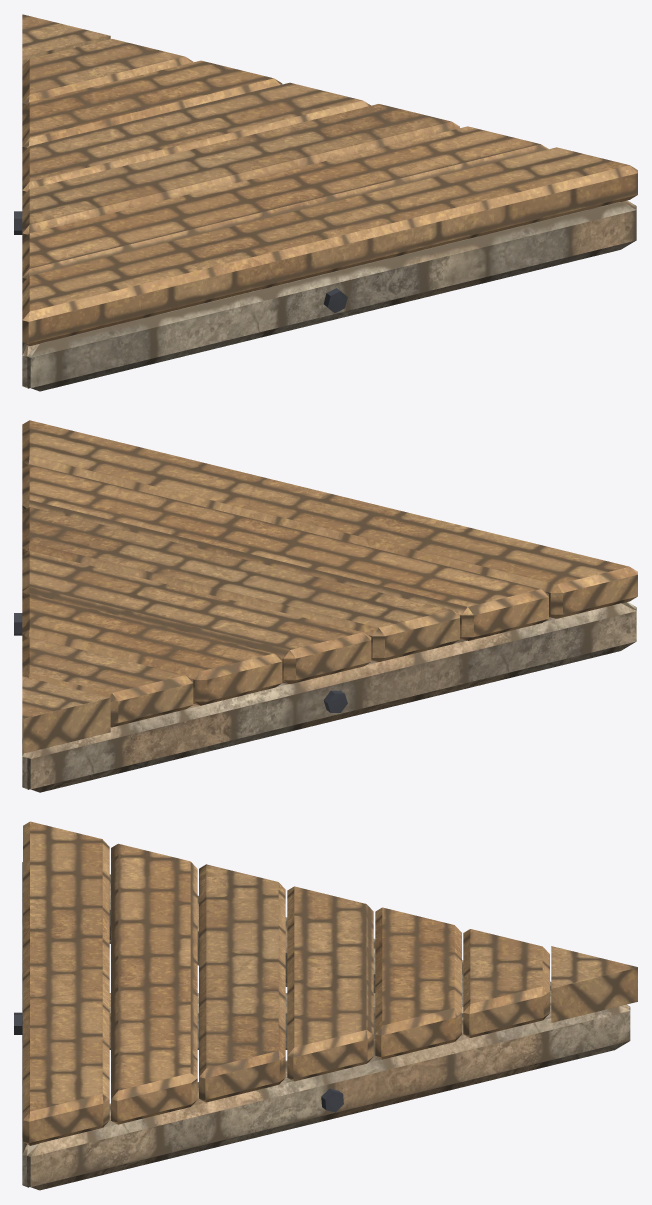
The model's file is ucgen_zemin.glb.
3 renders of one model, top to bottom at view 1: azimuth 30°, elevation 25°; view 2: azimuth 150°, elevation 25°; view 3: azimuth 270°, elevation 25°, orthographic.
Visible parts, largest first — view 1: ucgen_zemin; view 2: ucgen_zemin; view 3: ucgen_zemin.
Boxes of the visible parts, x1,y1,x2,y2 form: ucgen_zemin: [14, 14, 637, 391]; ucgen_zemin: [14, 420, 637, 792]; ucgen_zemin: [14, 821, 637, 1190].
Size of the model in its own units: 2.97 by 0.377 by 2.63.
1 material, 1 textured.
